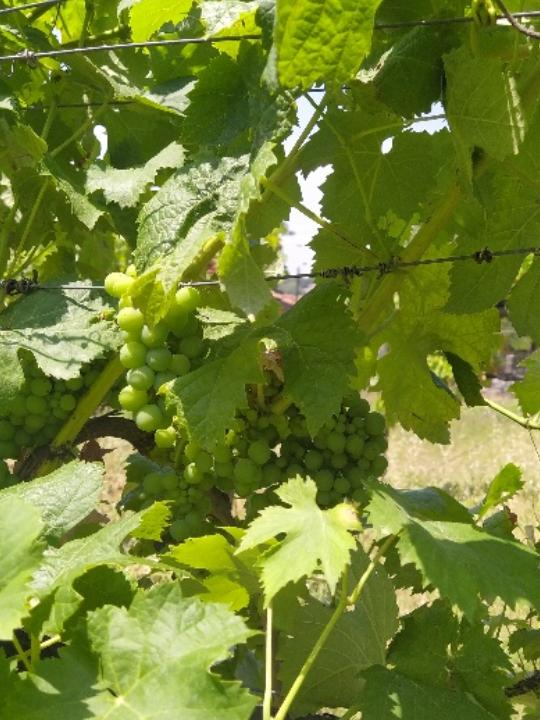grape: (99, 257, 209, 452), (273, 384, 389, 511)
